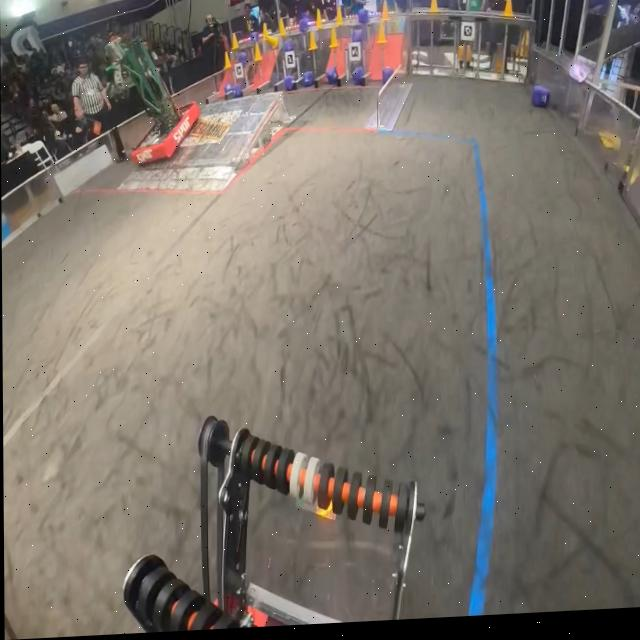robot: (119, 35, 201, 169)
